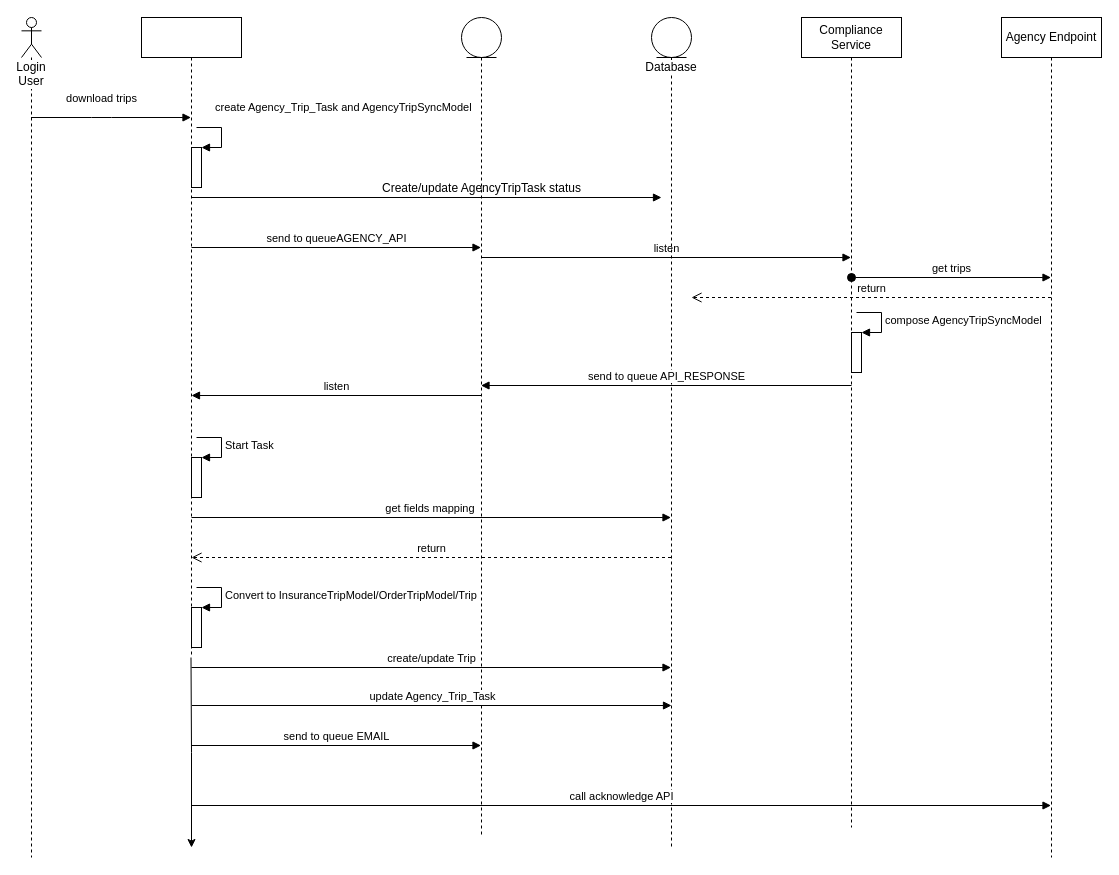
The diagram is 1119 pixels wide and 875 high, and some of its shapes have lost their labels. The box of each missing label's shape, as (x1, y1, x2, y2) in pixels:
Base Service: (140, 16, 242, 658)
Kafka MQ: (460, 16, 502, 838)
